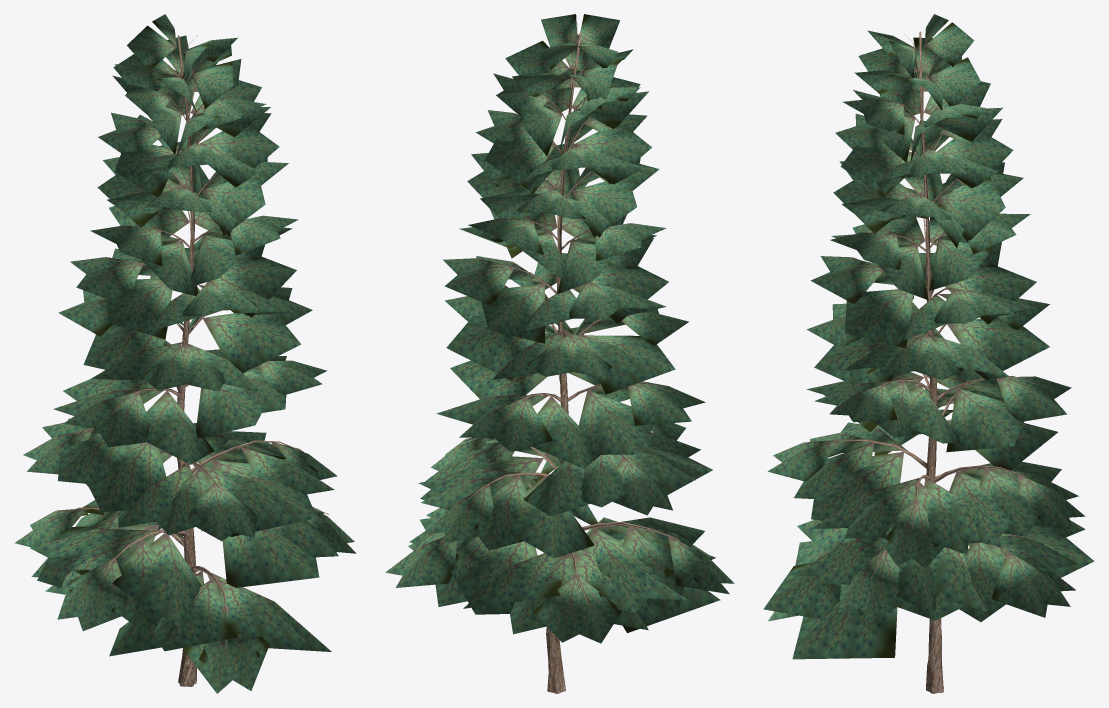
Rendered from SM_fir.fbx.
3 views of the same model, side by side, from view 1: azimuth 30°, elevation 25°; view 2: azimuth 150°, elevation 25°; view 3: azimuth 270°, elevation 25° (orthographic).
Parts seen in each view (by area): view 1: SM_fir_LOD0; view 2: SM_fir_LOD0; view 3: SM_fir_LOD0.
Part boxes in pixels (<box>): SM_fir_LOD0: <box>14,14,356,693</box>; SM_fir_LOD0: <box>385,14,734,693</box>; SM_fir_LOD0: <box>763,14,1094,693</box>.
Size of the model in its own units: 184 by 185 by 405.
